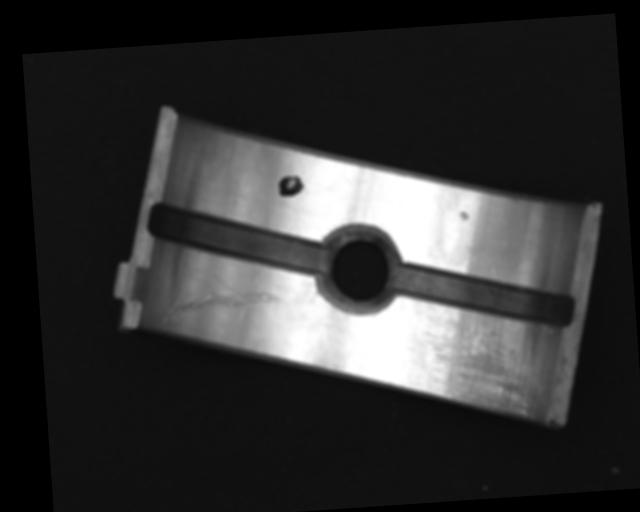blot: (276, 173, 305, 198)
bruise: (457, 211, 470, 220)
gap: (144, 188, 329, 287), (393, 252, 577, 338)
hole: (314, 226, 404, 316)
nick: (157, 267, 284, 323)
scratch: (421, 308, 543, 423)
